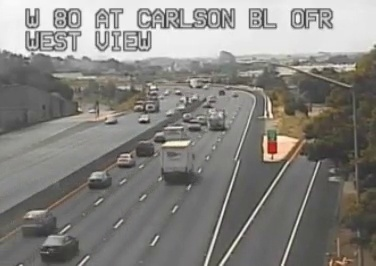car: (41, 235, 78, 260), (23, 211, 57, 234), (88, 172, 111, 189), (135, 141, 154, 155), (116, 153, 135, 167), (153, 131, 164, 143)
small-truck: (160, 140, 192, 179), (164, 127, 183, 141)
